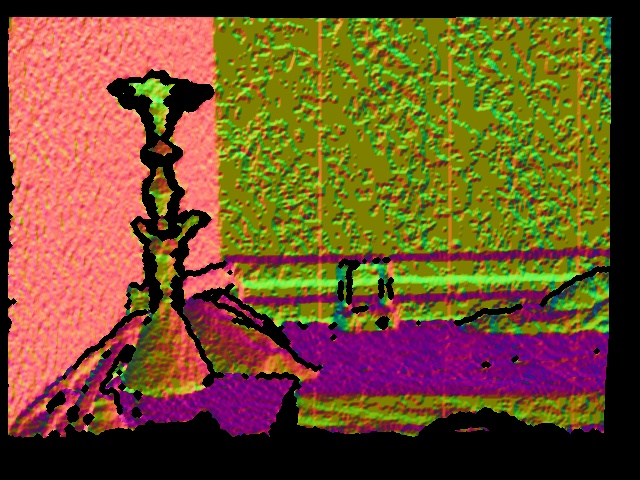station: (332, 260, 400, 331)
